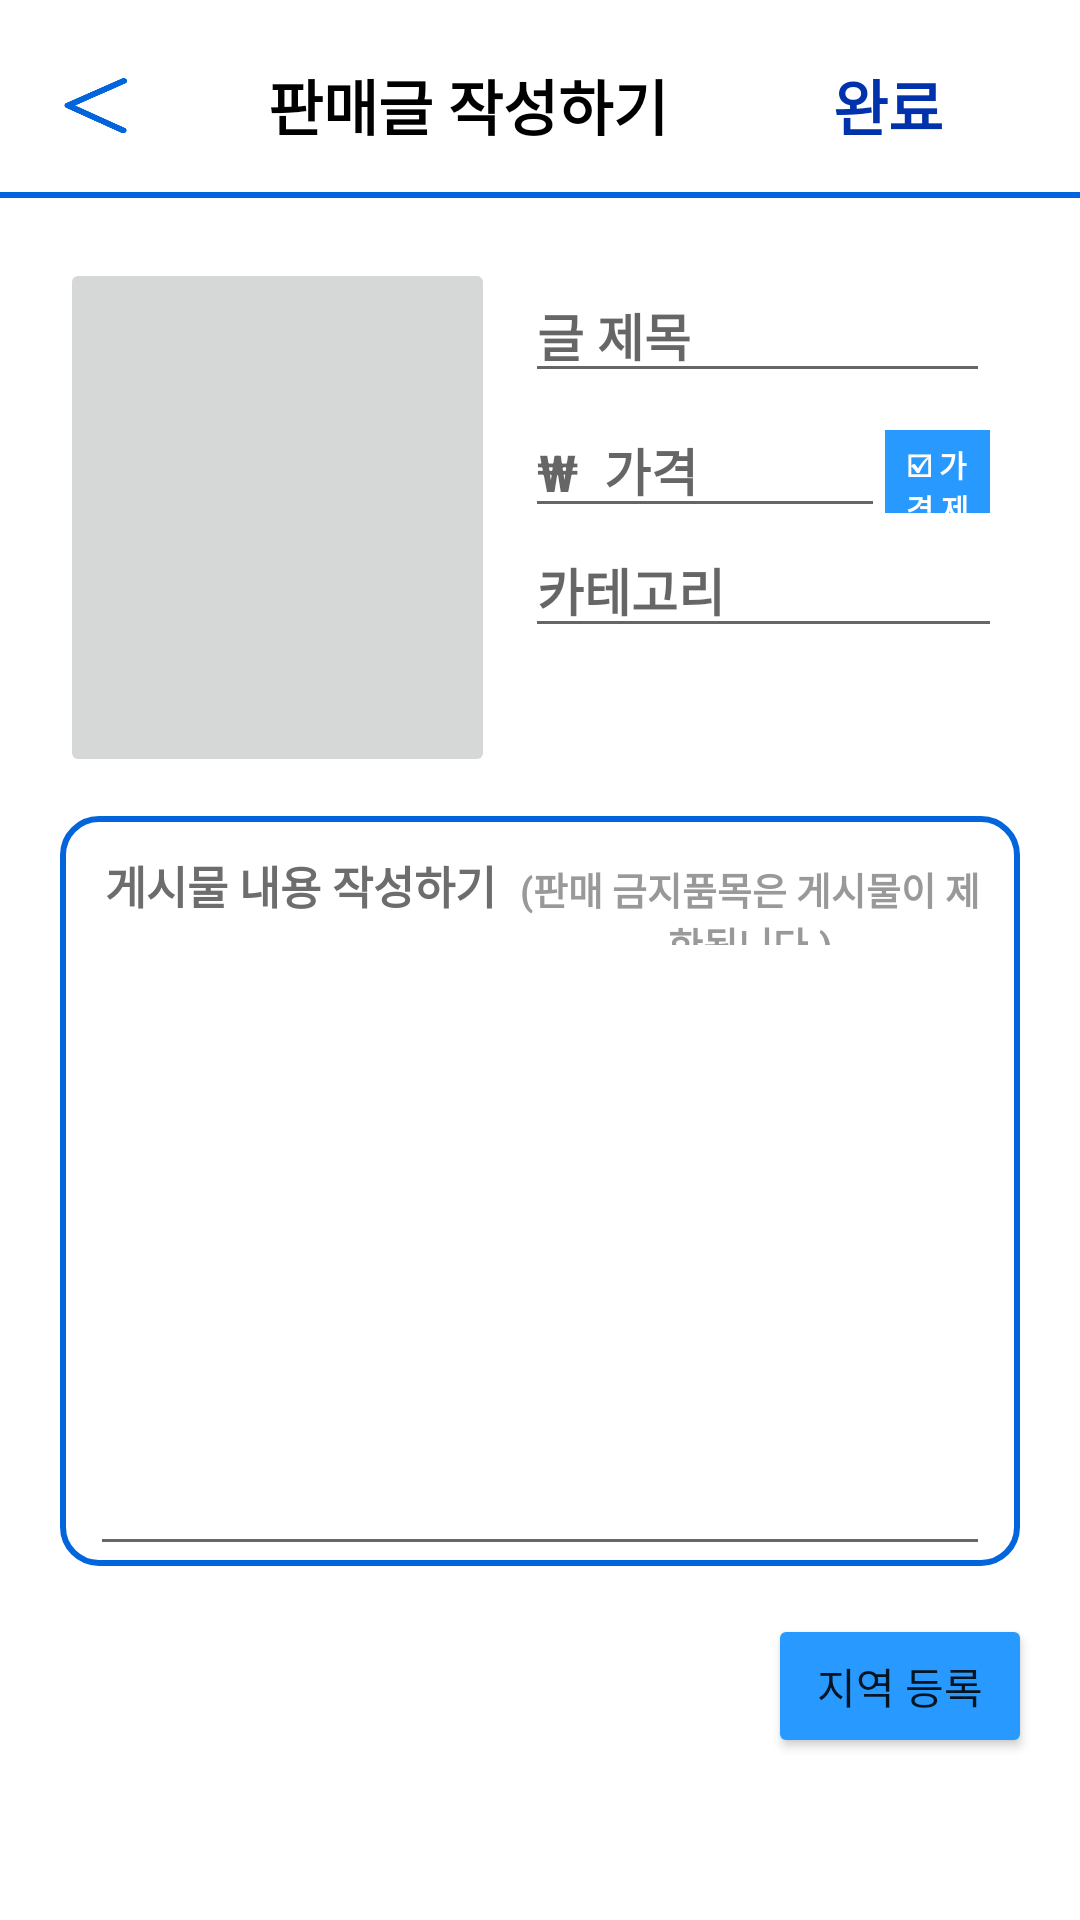

Icon click points for this 1080px x 1920px phone screenshot, format [x,y]:
left: [95,105]
